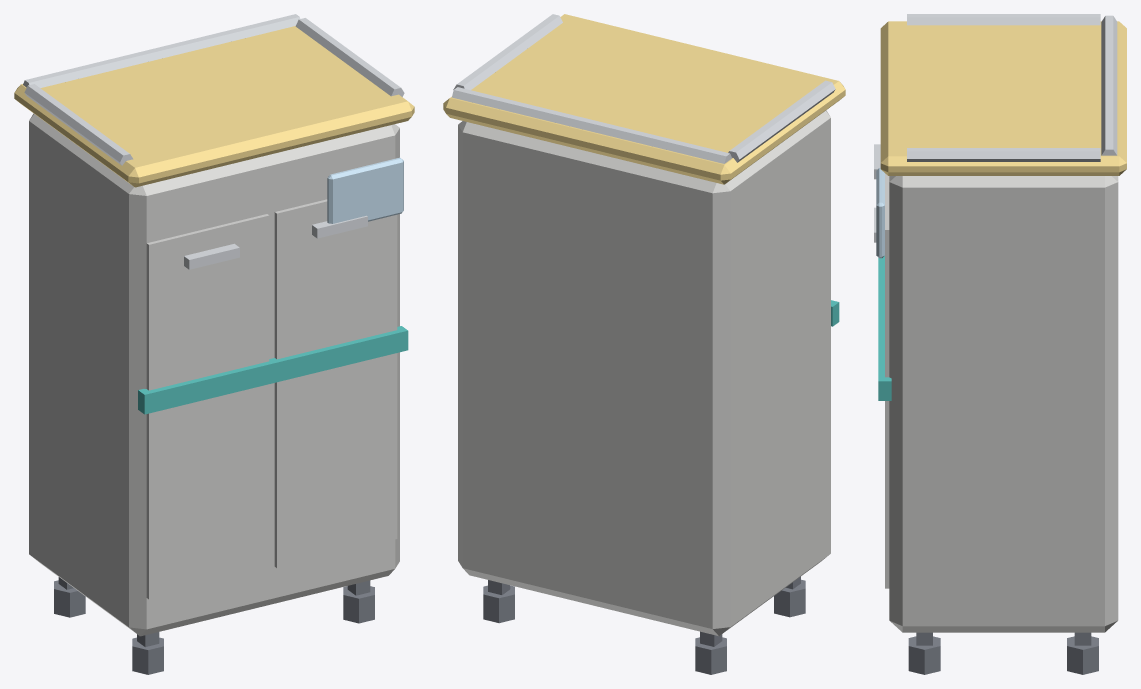
Rendered from medical-23615.glb.
3 views of the same model, side by side, from view 1: azimuth 30°, elevation 25°; view 2: azimuth 150°, elevation 25°; view 3: azimuth 270°, elevation 25° (orthographic).
Visible parts, largest first — view 1: sterile-supply-cart; view 2: sterile-supply-cart; view 3: sterile-supply-cart.
Boxes of the visible parts, left/top/right/bottom form: sterile-supply-cart: left=14, top=14, right=414, bottom=674; sterile-supply-cart: left=443, top=14, right=845, bottom=674; sterile-supply-cart: left=874, top=14, right=1126, bottom=674.
Bounding box in the file's own units: 0.76 × 1.34 × 0.575.
